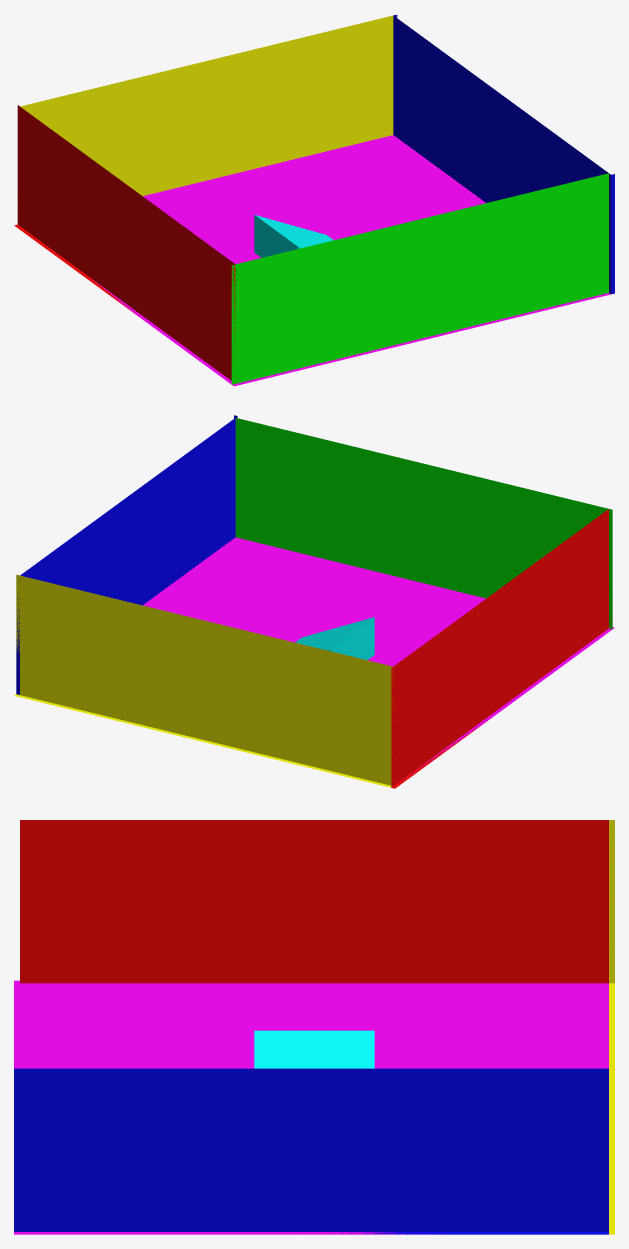
The model's file is TestStageCollision.fbx.
3 views of the same model, one above another, from view 1: azimuth 30°, elevation 25°; view 2: azimuth 150°, elevation 25°; view 3: azimuth 270°, elevation 25° (orthographic). The views are drawn at different scales.
Visible parts, largest first — view 1: 立方体.001, 立方体, 立方体.003, Cube, 立方体.002, 立方体.004; view 2: 立方体, 立方体.001, 立方体.003, Cube, 立方体.002, 立方体.004; view 3: 立方体.002, 立方体.003, Cube, 立方体.004, 立方体.
Part boxes in pixels (x1=…): 立方体.001: x1=231, y1=173, x2=608, y2=384; 立方体: x1=20, y1=15, x2=397, y2=196; 立方体.003: x1=14, y1=105, x2=235, y2=380; Cube: x1=94, y1=135, x2=610, y2=386; 立方体.002: x1=393, y1=14, x2=614, y2=294; 立方体.004: x1=254, y1=215, x2=333, y2=257; 立方体: x1=14, y1=574, x2=393, y2=787; 立方体.001: x1=235, y1=418, x2=612, y2=628; 立方体.003: x1=391, y1=509, x2=612, y2=788; Cube: x1=143, y1=537, x2=614, y2=776; 立方体.002: x1=16, y1=415, x2=237, y2=694; 立方体.004: x1=295, y1=617, x2=374, y2=660; 立方体.002: x1=14, y1=1068, x2=608, y2=1234; 立方体.003: x1=20, y1=820, x2=611, y2=983; Cube: x1=14, y1=980, x2=608, y2=1234; 立方体.004: x1=254, y1=1030, x2=374, y2=1068; 立方体: x1=609, y1=820, x2=614, y2=1234.
Size of the model in its own units: 200 by 61 by 200.
